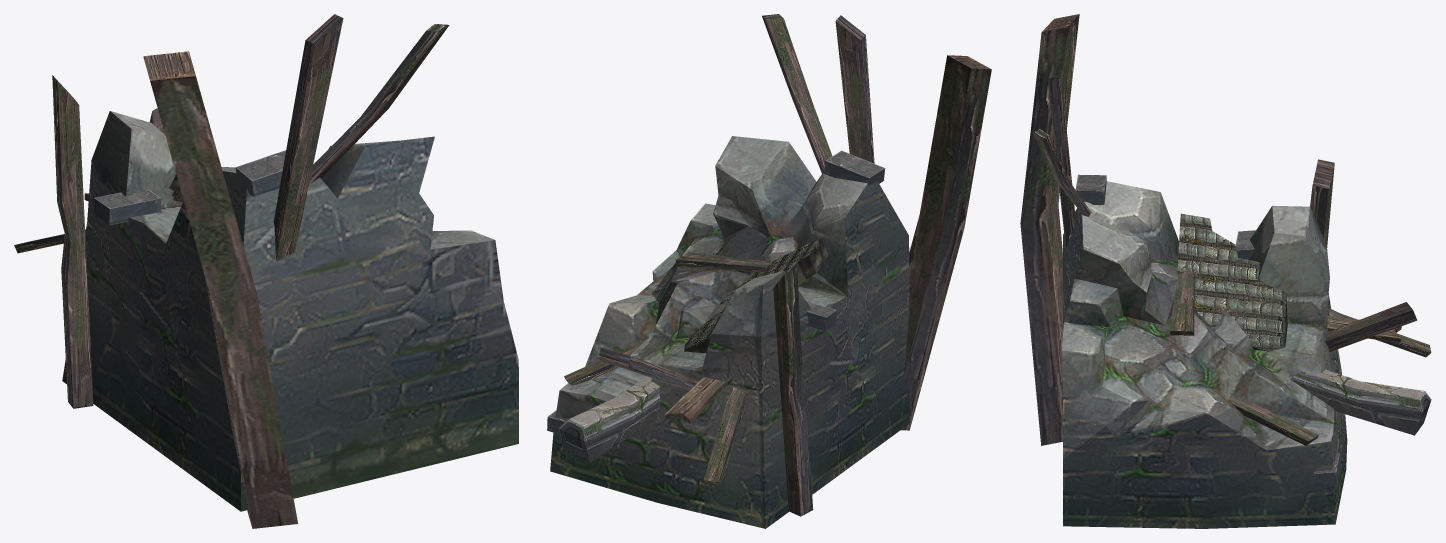
File: Item_3.FBX
The picture shows the model from 3 angles, left to right: view 1: azimuth 30°, elevation 25°; view 2: azimuth 150°, elevation 25°; view 3: azimuth 270°, elevation 25°; orthographic projection. The views are drawn at different scales.
Visible parts, largest first — view 1: Item_3; view 2: Item_3; view 3: Item_3.
Part boxes in pixels (left/top/right/bottom): Item_3: left=14, top=14, right=518, bottom=528; Item_3: left=547, top=14, right=991, bottom=528; Item_3: left=1020, top=14, right=1431, bottom=528.
Size of the model in its own units: 245 by 302 by 289.
